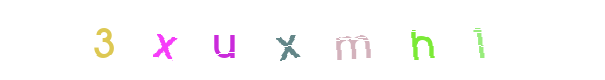1: (414, 0, 494, 80)
3: (65, 0, 145, 80)
H: (381, 0, 461, 80)
M: (287, 0, 367, 80)
U: (248, 0, 328, 80)
X: (156, 0, 236, 80), (263, 0, 343, 80)
